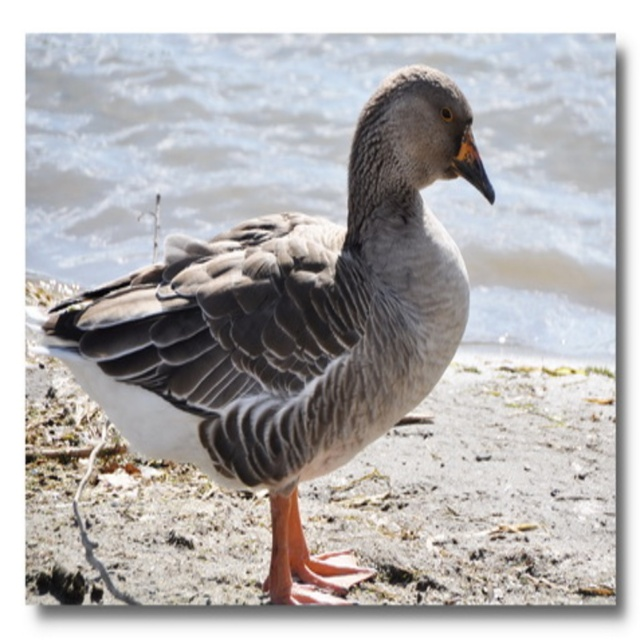Goose: (19, 59, 494, 605)
